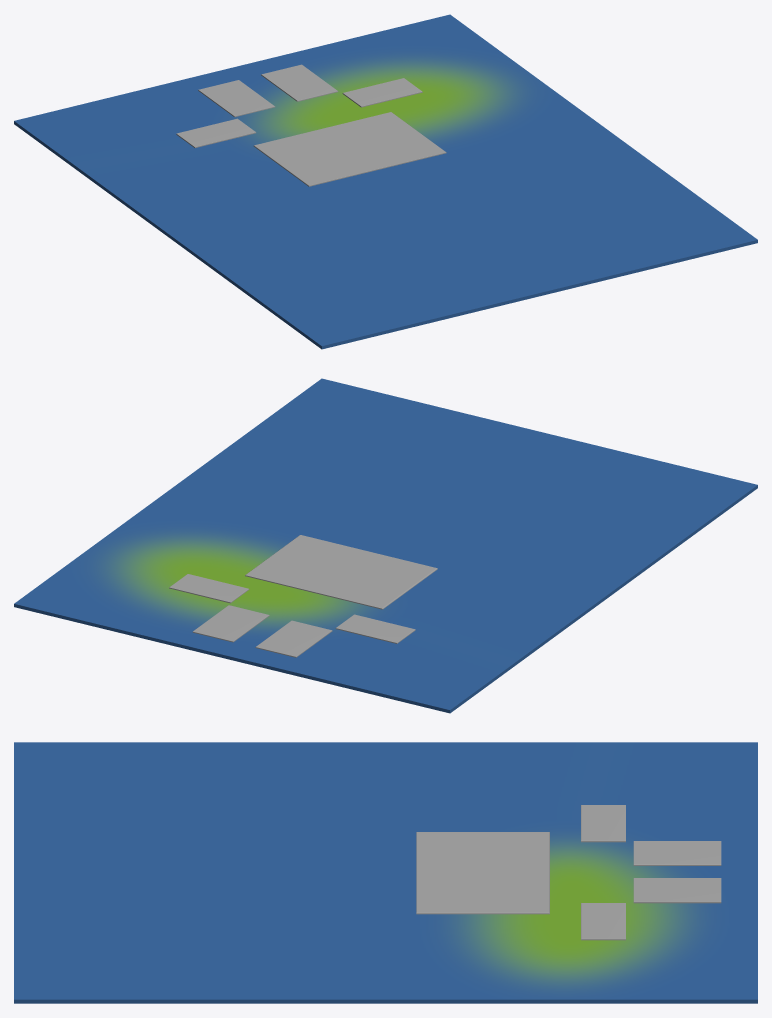
File: Ground_4.fbx
The picture shows the model from 3 angles, top to bottom: view 1: azimuth 30°, elevation 25°; view 2: azimuth 150°, elevation 25°; view 3: azimuth 270°, elevation 25°; orthographic projection. The views are drawn at different scales.
Parts seen in each view (by area): view 1: Ground_4, Platform1, Platform3, Platform4, Platform2, Platform5; view 2: Ground_4, Platform1, Platform3, Platform4, Platform2, Platform5; view 3: Ground_4, Platform1, Platform4, Platform3, Platform2, Platform5.
Boxes of the visible parts, box(x1,y1,x2,y2) form: Ground_4: box(14, 14, 757, 349); Platform1: box(253, 112, 446, 186); Platform3: box(198, 80, 275, 117); Platform4: box(261, 64, 338, 101); Platform2: box(176, 118, 256, 147); Platform5: box(342, 78, 422, 107); Ground_4: box(14, 378, 757, 713); Platform1: box(245, 535, 437, 609); Platform3: box(255, 620, 332, 657); Platform4: box(192, 605, 269, 642); Platform2: box(335, 614, 415, 643); Platform5: box(169, 574, 249, 603); Ground_4: box(14, 742, 757, 1003); Platform1: box(416, 832, 549, 914); Platform4: box(633, 878, 721, 903); Platform3: box(633, 841, 721, 865); Platform2: box(581, 805, 625, 842); Platform5: box(581, 903, 625, 940).
Bounding box in the file's own units: 217432 × 2076 × 265814.
